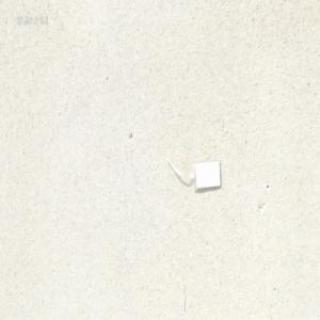LuggageTagtrack_idkeyframe: (164, 157, 221, 190)
